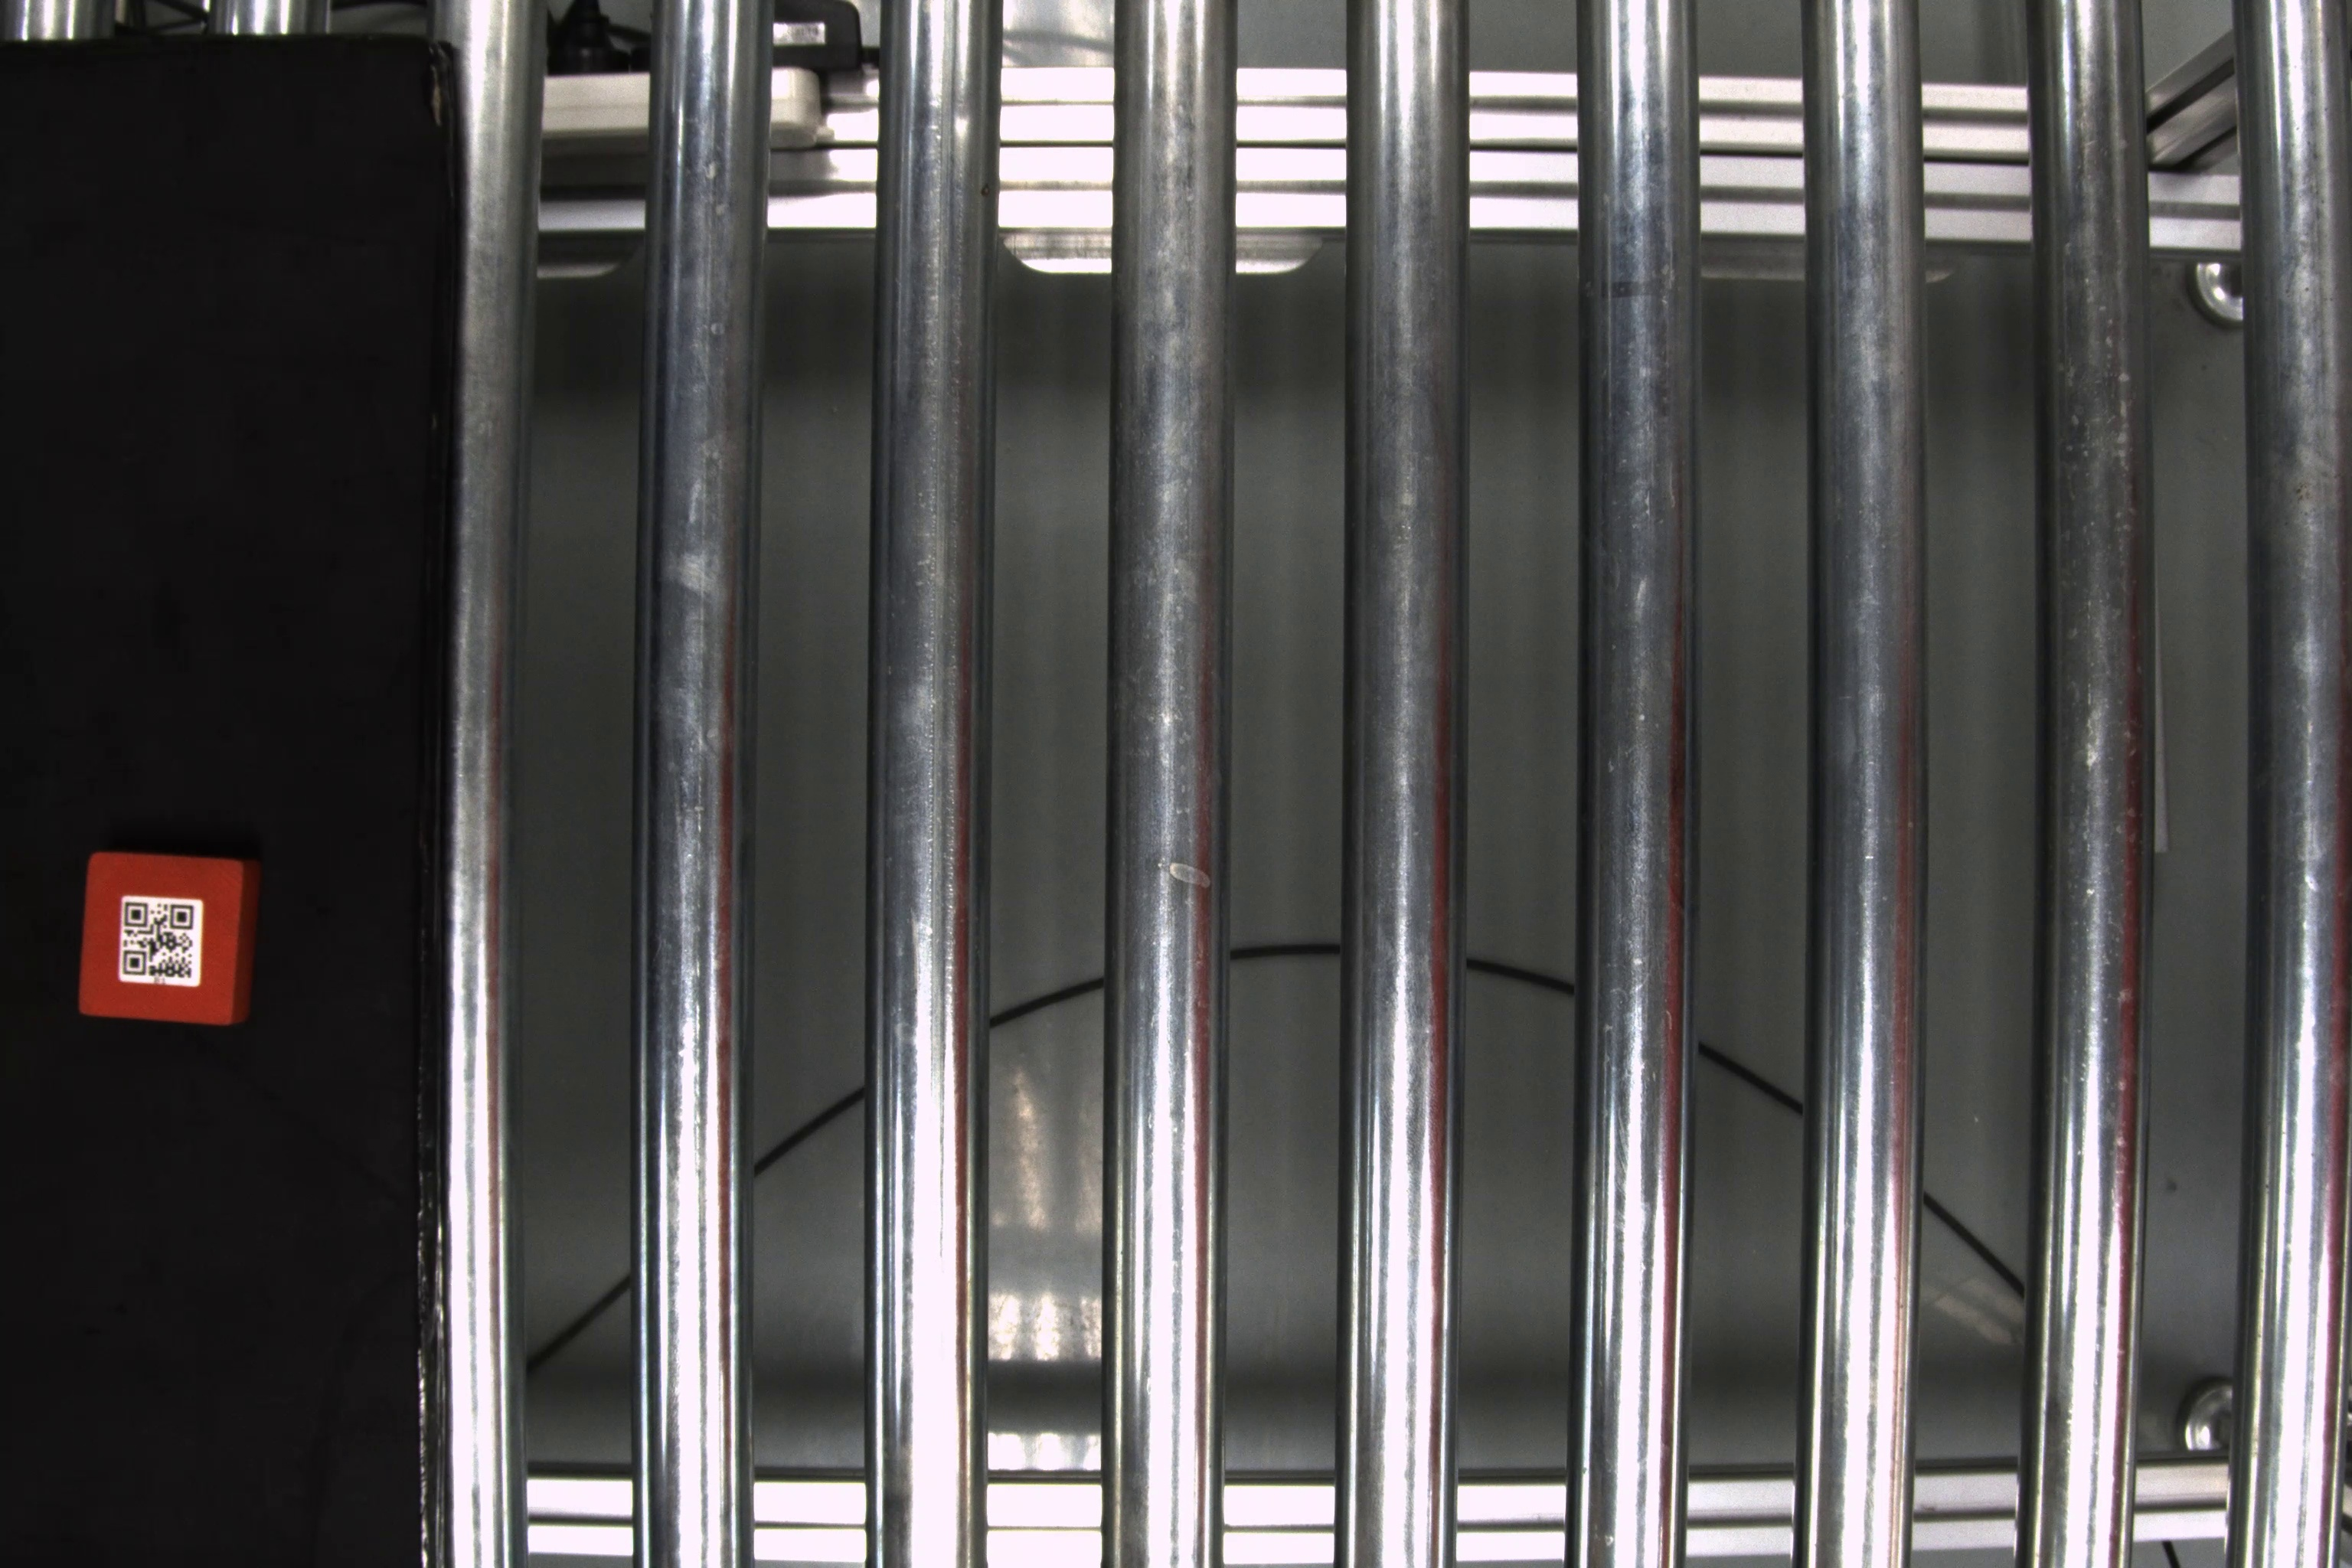wood: (68, 849, 262, 1031)
